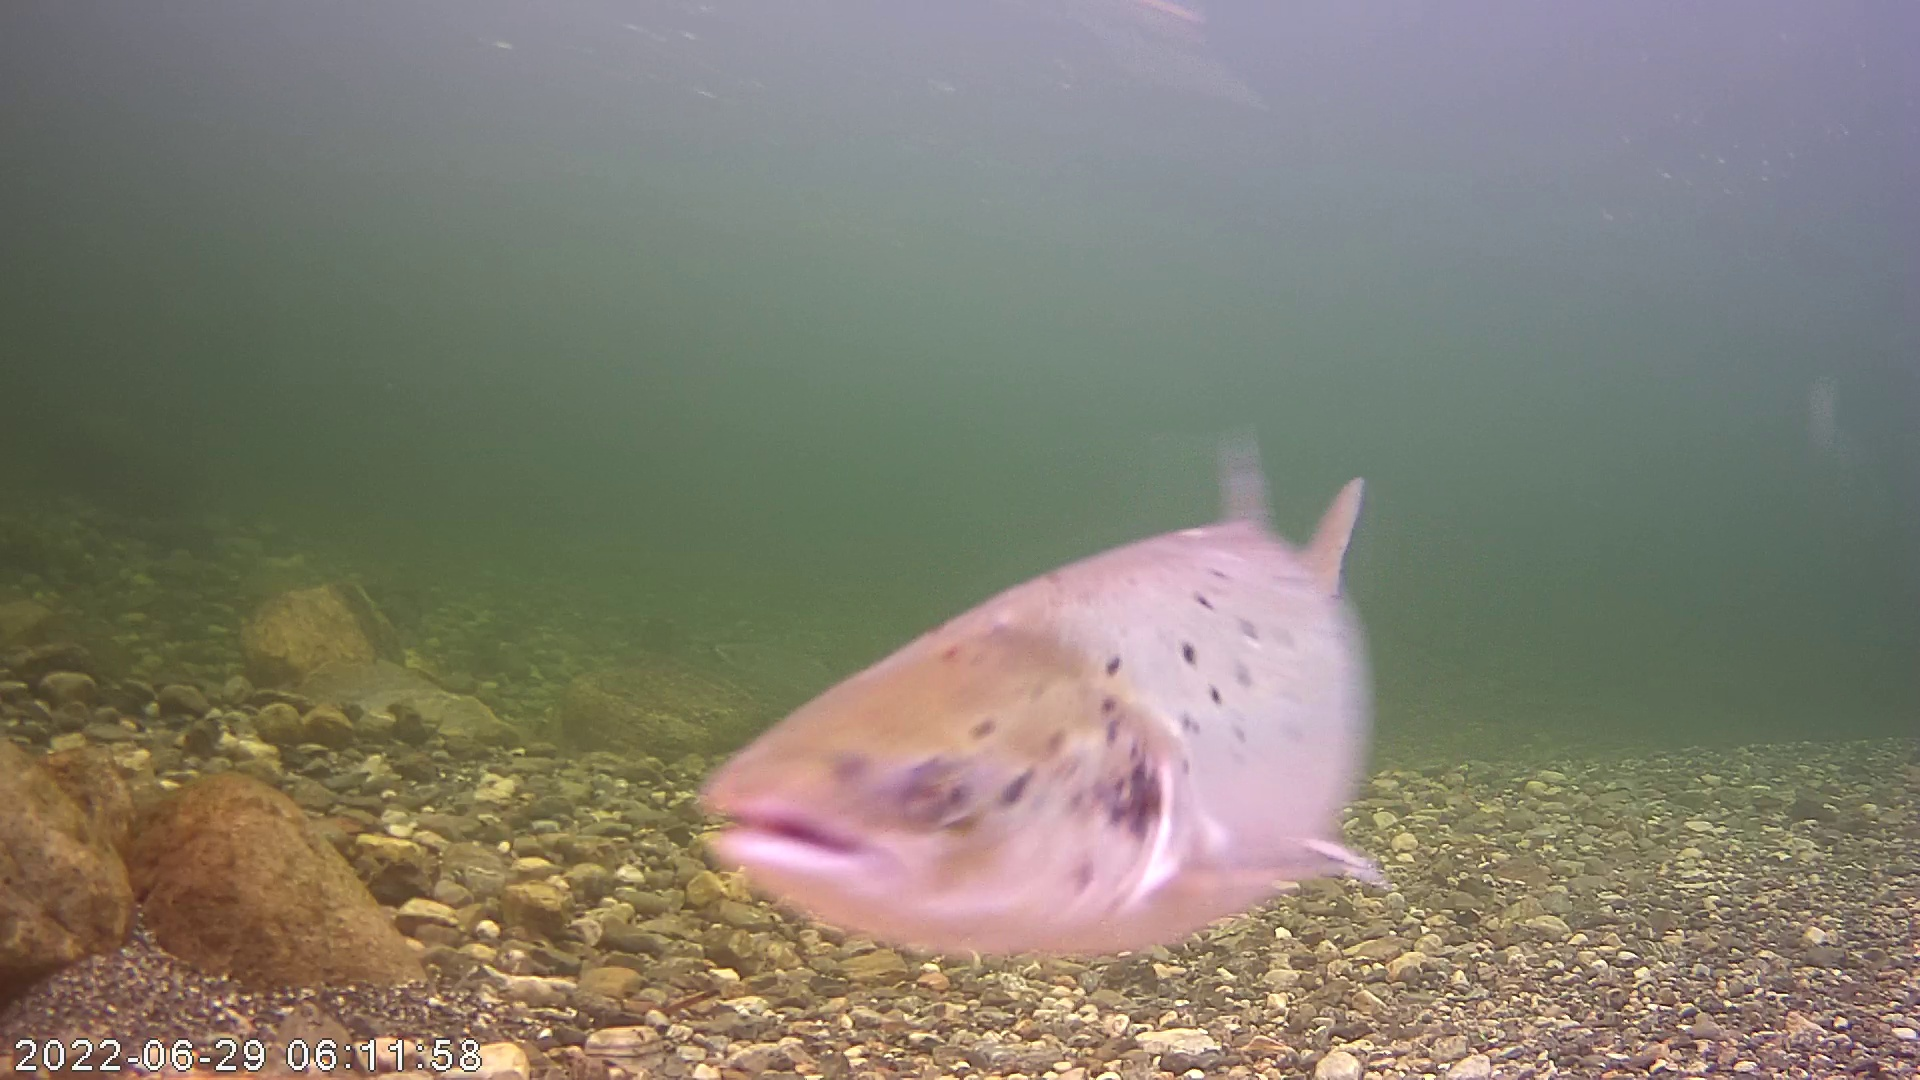salmon: (675, 411, 1406, 965)
